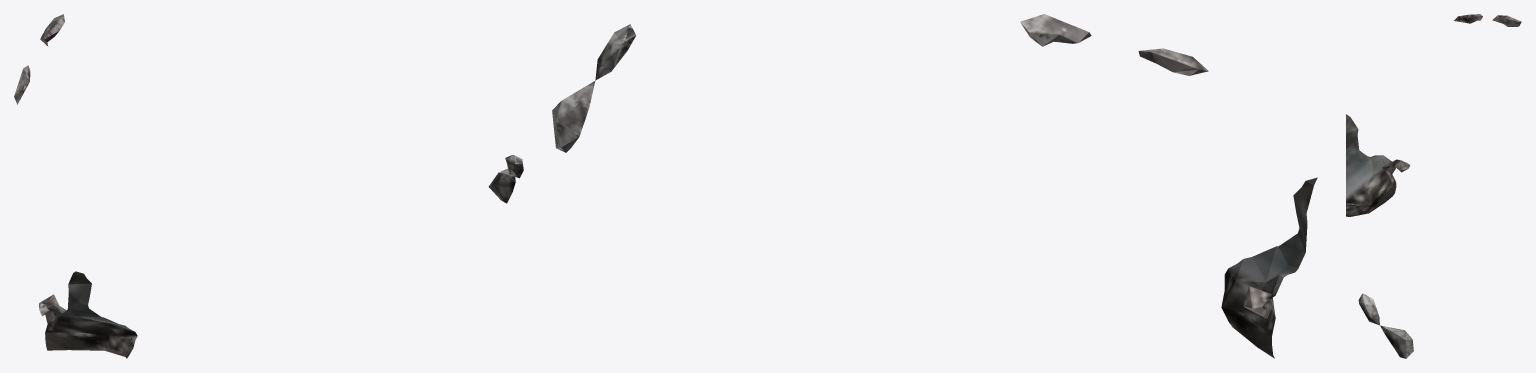
3 renders of one model, left to right at view 1: azimuth 30°, elevation 25°; view 2: azimuth 150°, elevation 25°; view 3: azimuth 270°, elevation 25°, orthographic. The views are drawn at different scales.
Bounding box in the file's own units: 0.8056 × 0.4238 × 0.3154.
1 material, 1 textured.
